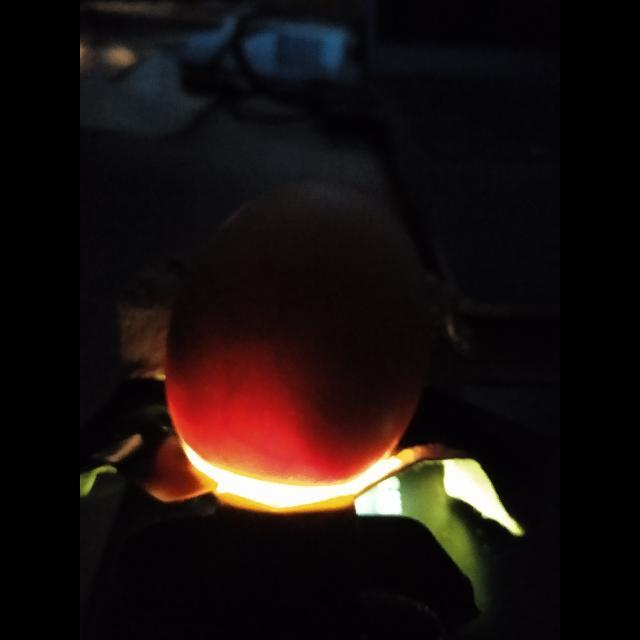Fertile: (162, 186, 432, 510)
